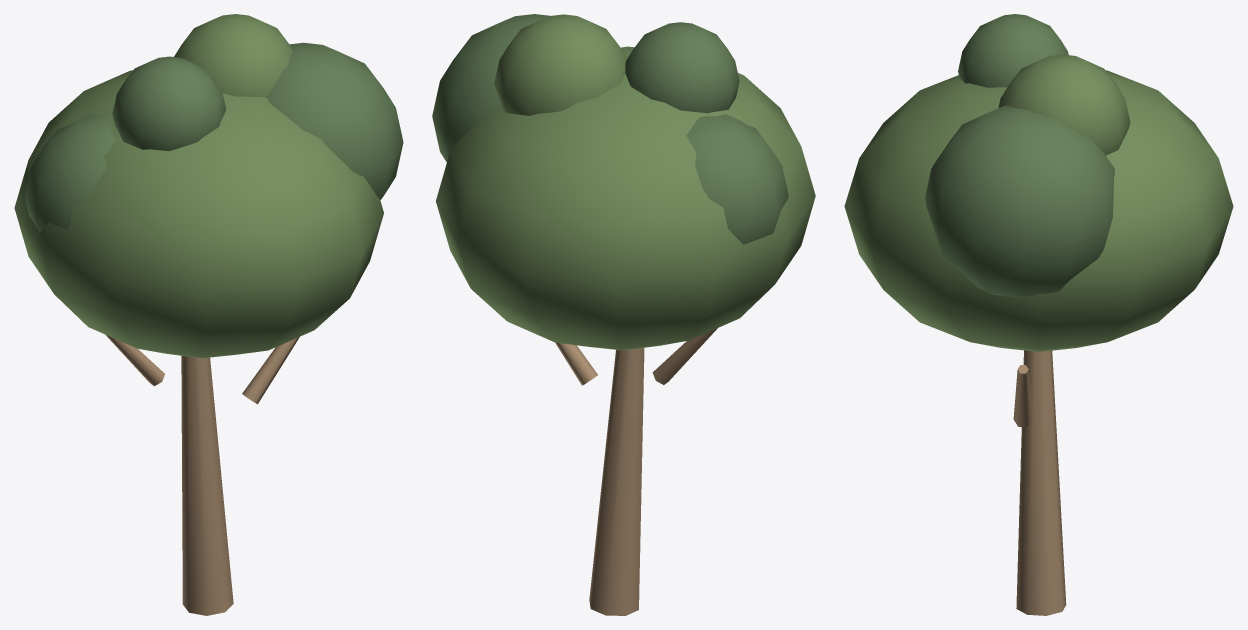
Rendered from tree-b.glb.
3 renders of one model, left to right at view 1: azimuth 30°, elevation 25°; view 2: azimuth 150°, elevation 25°; view 3: azimuth 270°, elevation 25°, orthographic. The views are drawn at different scales.
Parts seen in each view (by area): view 1: foliageB, foliage, wood; view 2: foliageB, foliage, wood; view 3: foliageB, foliage, wood.
Boxes of the visible parts, left/top/right/bottom form: foliageB: left=14, top=14, right=383, bottom=358; foliage: left=25, top=42, right=403, bottom=232; wood: left=105, top=334, right=299, bottom=615; foliageB: left=436, top=14, right=815, bottom=350; foliage: left=432, top=14, right=788, bottom=244; wood: left=555, top=328, right=717, bottom=615; foliageB: left=844, top=54, right=1233, bottom=351; foliage: left=925, top=14, right=1114, bottom=297; wood: left=1013, top=350, right=1066, bottom=615.
Size of the model in its own units: 4.93 by 7.86 by 4.9.
